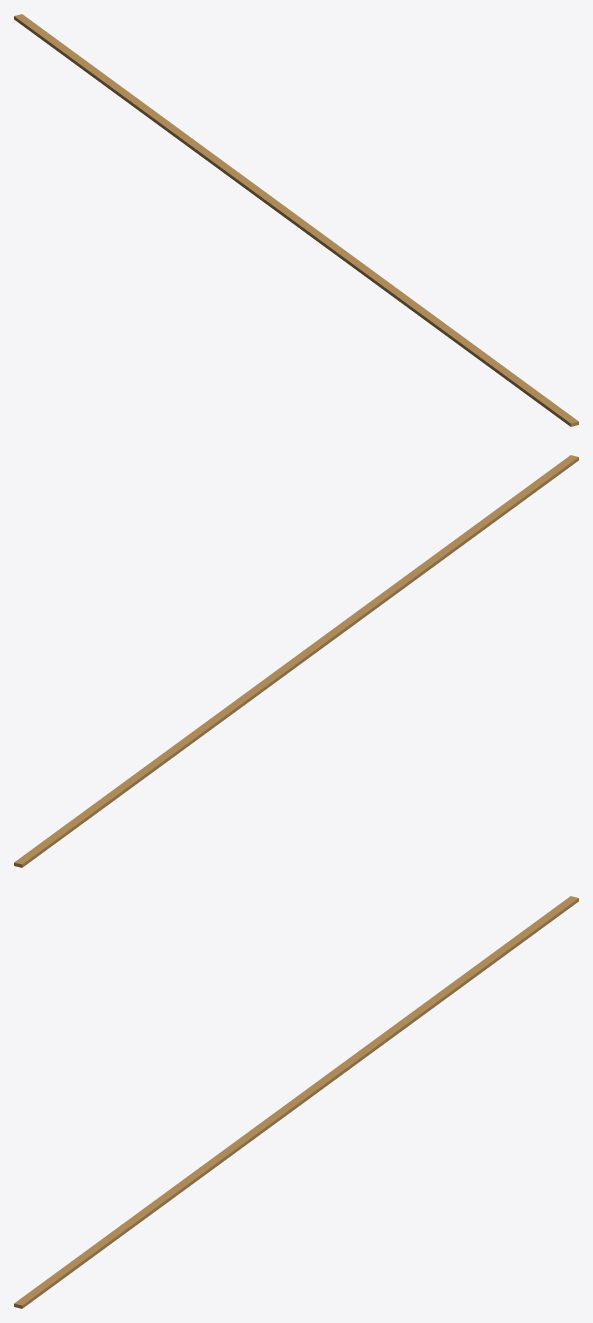
The picture shows the model from 3 angles, top to bottom: view 1: azimuth 30°, elevation 25°; view 2: azimuth 150°, elevation 25°; view 3: azimuth 330°, elevation 25°; orthographic projection.
Parts seen in each view (by area): view 1: RUN-075-S00-ribbon; view 2: RUN-075-S00-ribbon; view 3: RUN-075-S00-ribbon.
Part boxes in pixels (bbox=[...]): RUN-075-S00-ribbon: bbox=[14, 14, 578, 426]; RUN-075-S00-ribbon: bbox=[14, 455, 578, 867]; RUN-075-S00-ribbon: bbox=[14, 896, 578, 1308].
Bounding box in the file's own units: 0.09 × 0.035 × 10.51.
